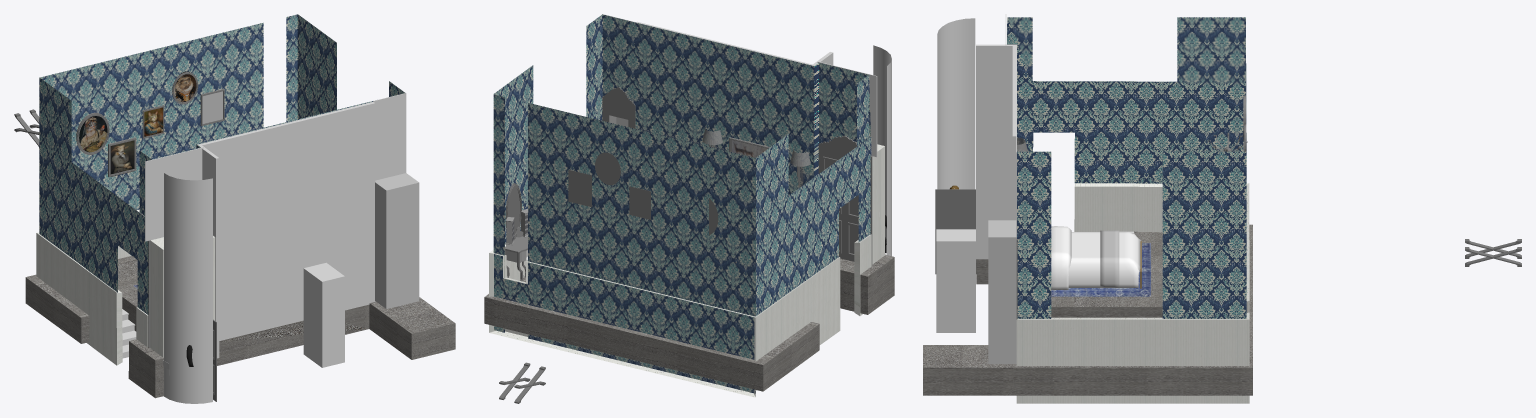
File: player_room.fbx
3 renders of one model, left to right at view 1: azimuth 30°, elevation 25°; view 2: azimuth 150°, elevation 25°; view 3: azimuth 270°, elevation 25°, orthographic. The views are drawn at different scales.
Visible parts, largest first — view 1: Cube.015, Cube.036, Cube.008, Stairs.001, Cube.013, Cube.040, Cube.011, Cube.014, Cube.009, Cube.030, Circle.014, Cube.047 (+4 smaller); view 2: Cube.015, Cube.008, Cube.040, Stairs.001, Cube.030, Cube.041, Cube.035, Cube.051, Cube.044, Cube.014, Circle.013, Cube.017 (+5 smaller); view 3: Cube.015, Cube.040, Cube.008, Cube.036, Stairs.001, Cube.013, Cube.011, Plane.001, Plane, Plane.002, Cube.012, Cube.017 (+1 smaller).
Part boxes in pixels (<box>): Cube.015: <box>39,14,404,314</box>; Cube.036: <box>197,102,375,358</box>; Cube.008: <box>25,256,455,398</box>; Stairs.001: <box>164,173,212,403</box>; Cube.013: <box>375,173,419,308</box>; Cube.040: <box>36,209,148,365</box>; Cube.011: <box>303,262,344,367</box>; Cube.014: <box>145,147,203,241</box>; Cube.009: <box>373,93,406,180</box>; Cube.030: <box>150,236,215,357</box>; Circle.014: <box>79,116,107,152</box>; Cube.047: <box>110,140,134,176</box>; Cube.015: <box>493,14,871,393</box>; Cube.008: <box>484,254,894,391</box>; Cube.040: <box>489,234,871,397</box>; Stairs.001: <box>873,45,891,256</box>; Cube.030: <box>872,144,884,264</box>; Cube.041: <box>845,136,872,265</box>; Cube.035: <box>818,136,845,259</box>; Cube.051: <box>602,87,635,128</box>; Cube.044: <box>568,169,591,207</box>; Cube.014: <box>817,61,877,157</box>; Circle.013: <box>595,152,620,185</box>; Cube.017: <box>499,362,545,403</box>; Cube.015: <box>1007,17,1246,318</box>; Cube.040: <box>1016,183,1249,403</box>; Cube.008: <box>923,224,1252,395</box>; Cube.036: <box>976,44,1016,259</box>; Stairs.001: <box>937,18,975,189</box>; Cube.013: <box>988,220,1016,363</box>; Cube.011: <box>936,229,975,332</box>; Plane.001: <box>1051,226,1141,289</box>; Plane: <box>1051,243,1150,296</box>; Plane.002: <box>1100,230,1119,287</box>; Cube.012: <box>935,189,956,274</box>; Cube.017: <box>1465,239,1521,266</box>.
Bounding box in the file's own units: 486 × 397 × 859.
